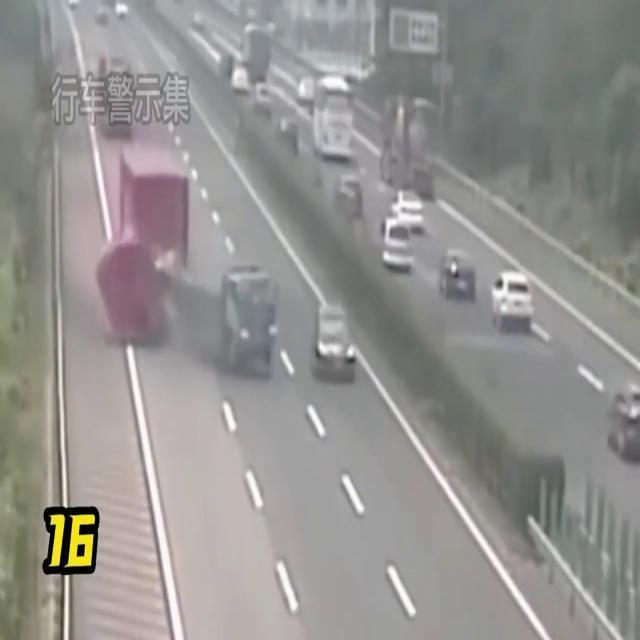accident: (90, 140, 290, 368)
